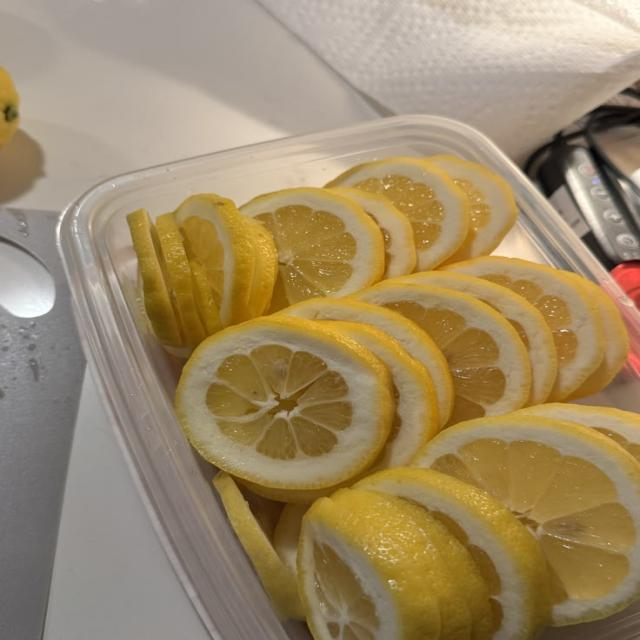lemon: (414, 414, 639, 624), (176, 316, 393, 488), (354, 468, 550, 639), (298, 490, 486, 639), (357, 280, 531, 424), (443, 256, 605, 401), (281, 297, 453, 426), (396, 271, 557, 403), (240, 188, 384, 311), (331, 321, 439, 477), (331, 321, 439, 470), (327, 158, 469, 270), (214, 472, 304, 619), (174, 194, 255, 326), (425, 155, 517, 262), (563, 278, 629, 401), (127, 209, 183, 349), (333, 188, 416, 279), (517, 403, 639, 461), (156, 213, 206, 349), (247, 218, 278, 317), (274, 503, 308, 575), (0, 66, 19, 148)
